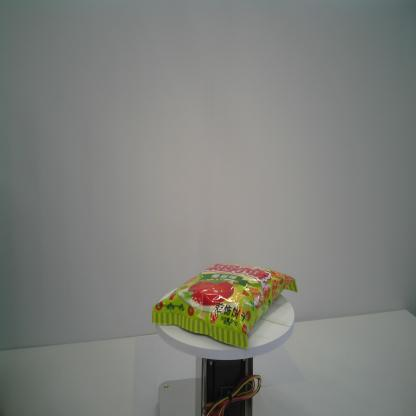Puffed Food: (151, 262, 298, 349)
